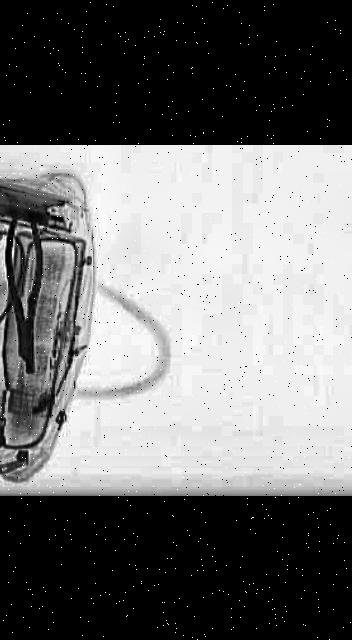Pliers: (6, 220, 54, 372)
